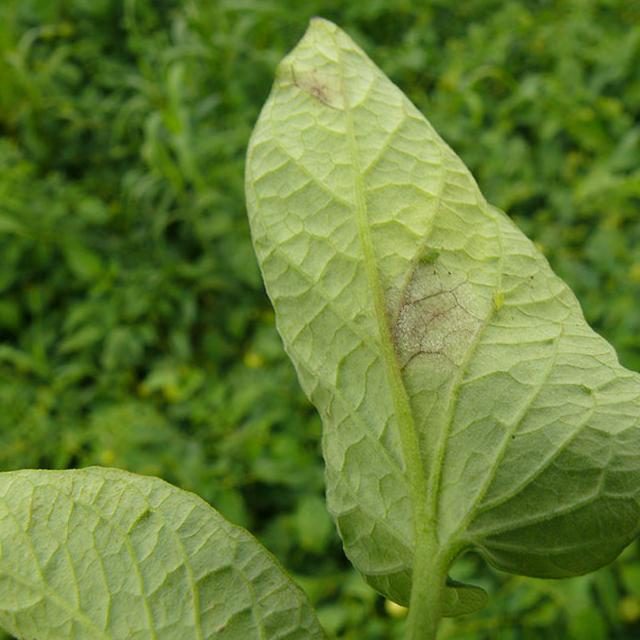Tomato leaf late blight: (233, 6, 640, 627)
